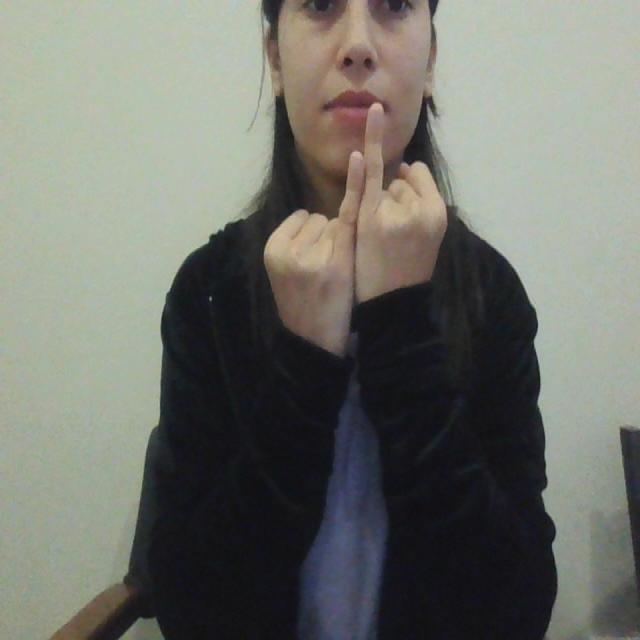Kardes: (259, 99, 452, 356)
